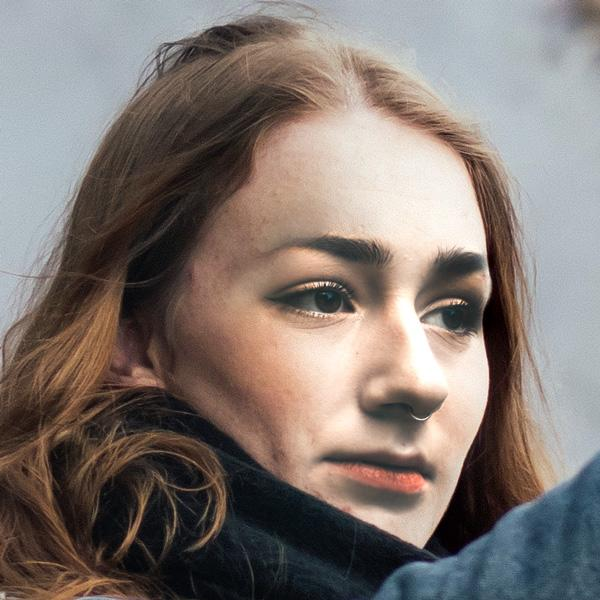Eyes: (256, 261, 370, 332), (408, 282, 482, 351)
